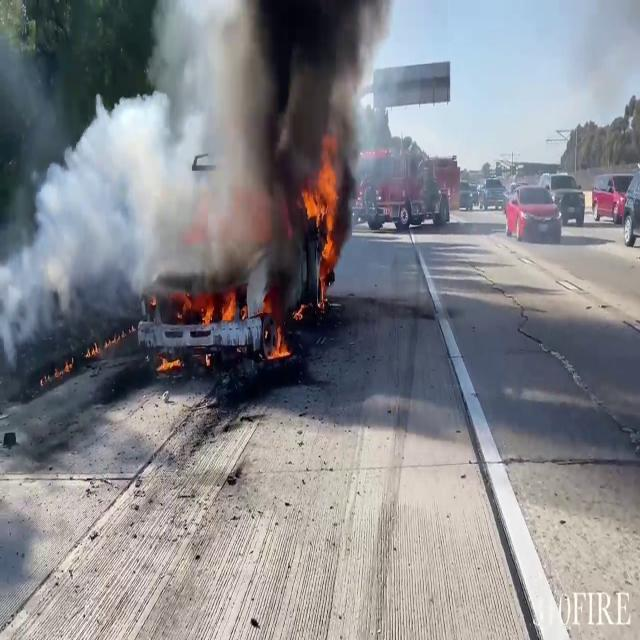Fire: (300, 140, 344, 298)
Smoke: (0, 0, 389, 372)
